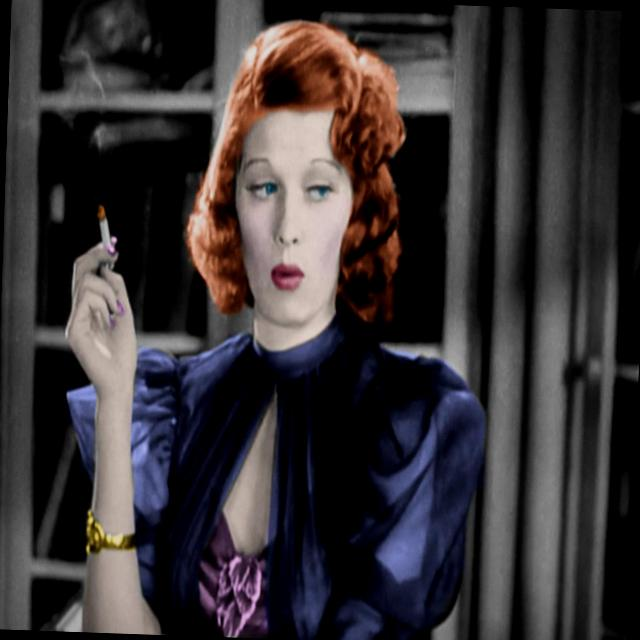smoke: (80, 185, 122, 276)
